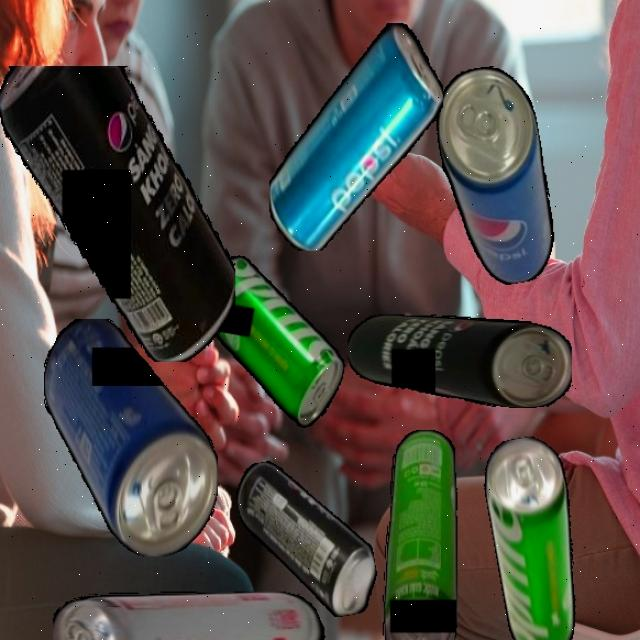debris: (0, 65, 235, 362), (43, 318, 218, 556), (268, 22, 443, 251), (428, 61, 563, 292), (187, 252, 360, 432), (232, 447, 383, 630), (477, 432, 595, 640), (346, 314, 572, 408), (382, 429, 458, 640), (52, 590, 327, 640)
